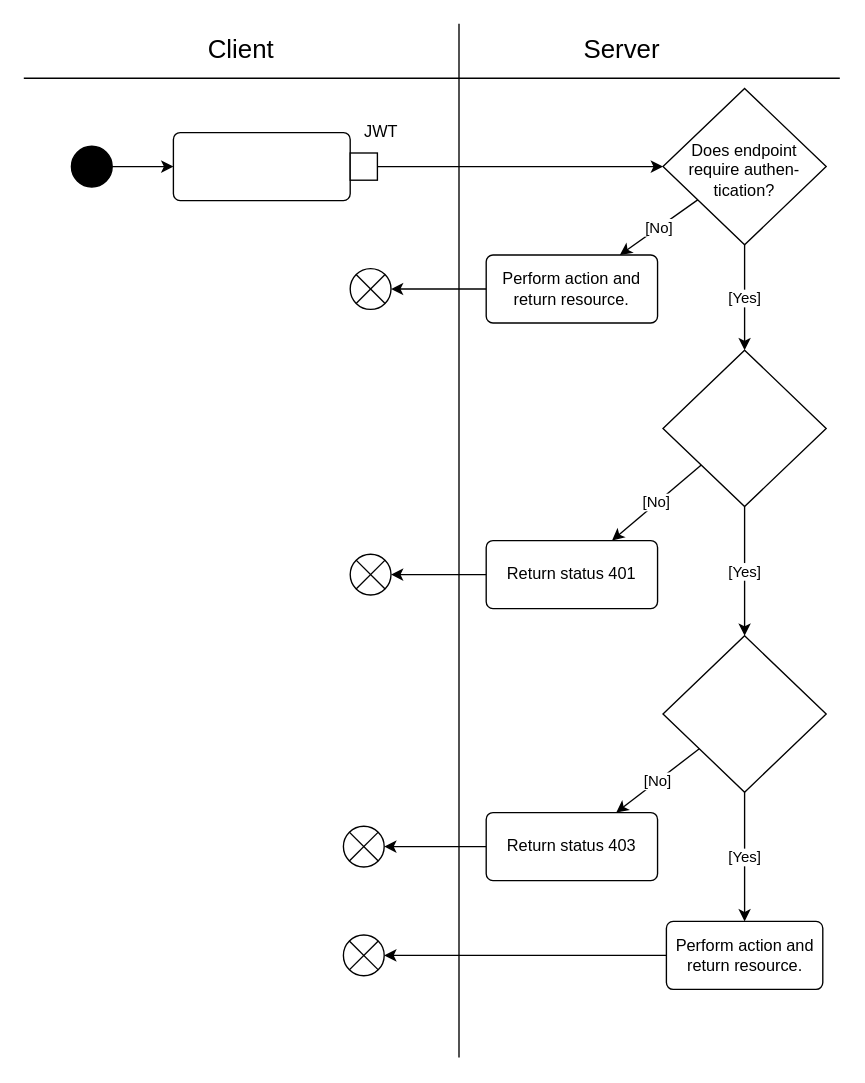
Image size: 865x1083. Some labels were removed from this diagram. Each missing label, with the centre of its shape:
Is client autho- rized to access endpoint?: the point at 744,713
Is JWT valid, non-expired?: the point at 744,428
Request to target endpoint: the point at 261,166
